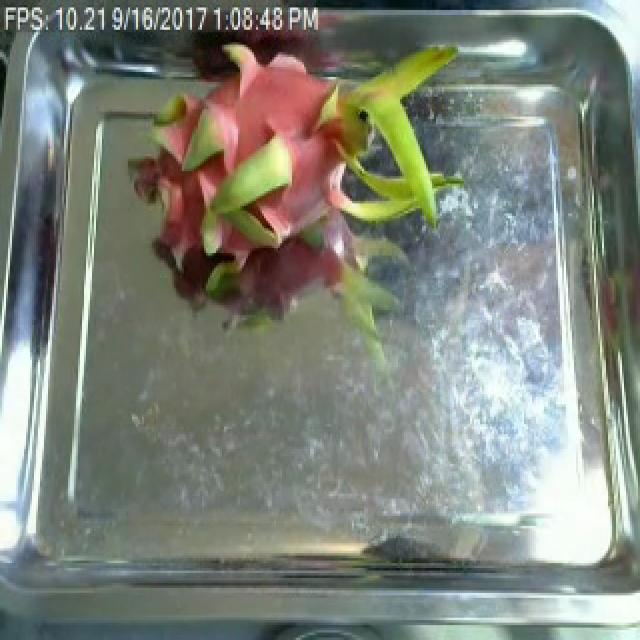fruit: (100, 0, 488, 380)
